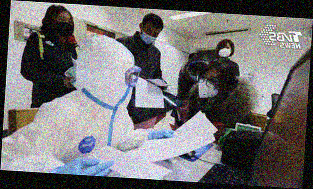with_mask: (197, 73, 219, 101), (53, 14, 75, 39), (140, 26, 159, 45), (217, 45, 233, 59)
